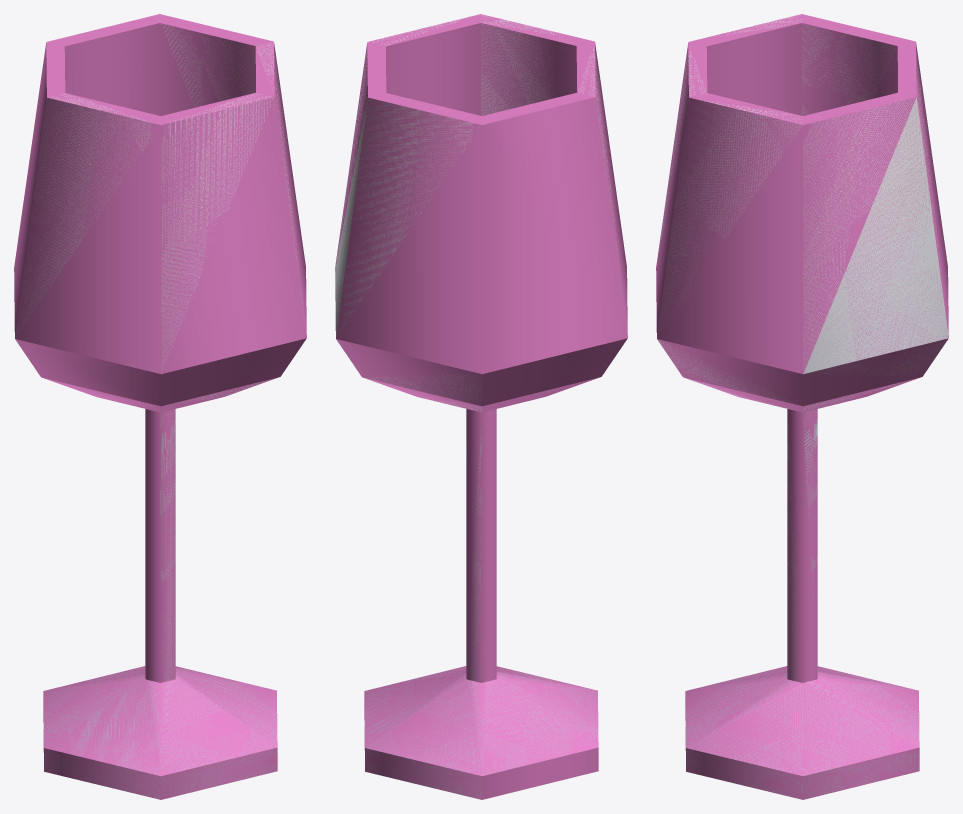
File: glass-wine.glb
3 renders of one model, left to right at view 1: azimuth 30°, elevation 25°; view 2: azimuth 150°, elevation 25°; view 3: azimuth 270°, elevation 25°, orthographic.
Parts seen in each view (by area): view 1: glass-wine; view 2: glass-wine; view 3: glass-wine.
Boxes of the visible parts, <box> form: glass-wine: <box>14,14,306,799</box>; glass-wine: <box>335,14,627,799</box>; glass-wine: <box>656,14,948,799</box>.
Size of the model in its own units: 0.2268 by 0.4999 by 0.1969.
Materials: 1 (1 with a texture image).
